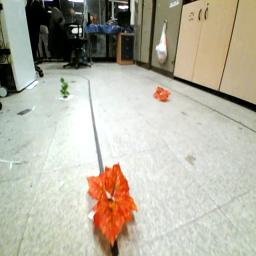herb: (58, 76, 72, 99)
wild: (86, 162, 142, 250), (154, 86, 173, 105)
